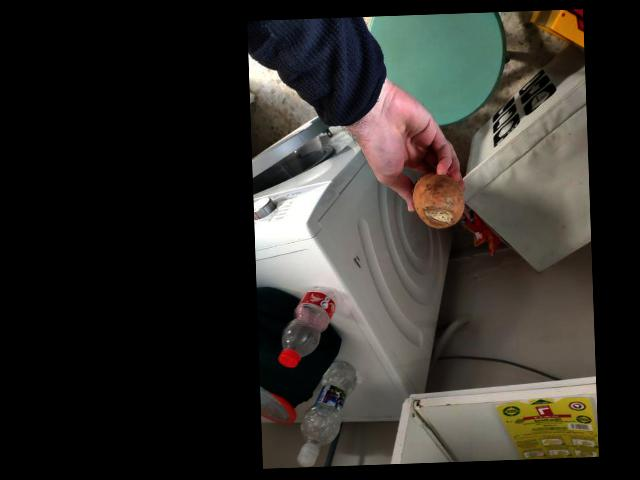sweet_potato: (412, 166, 461, 227)
